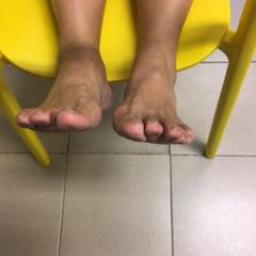Front View -Both Feet-: (12, 3, 210, 156)
